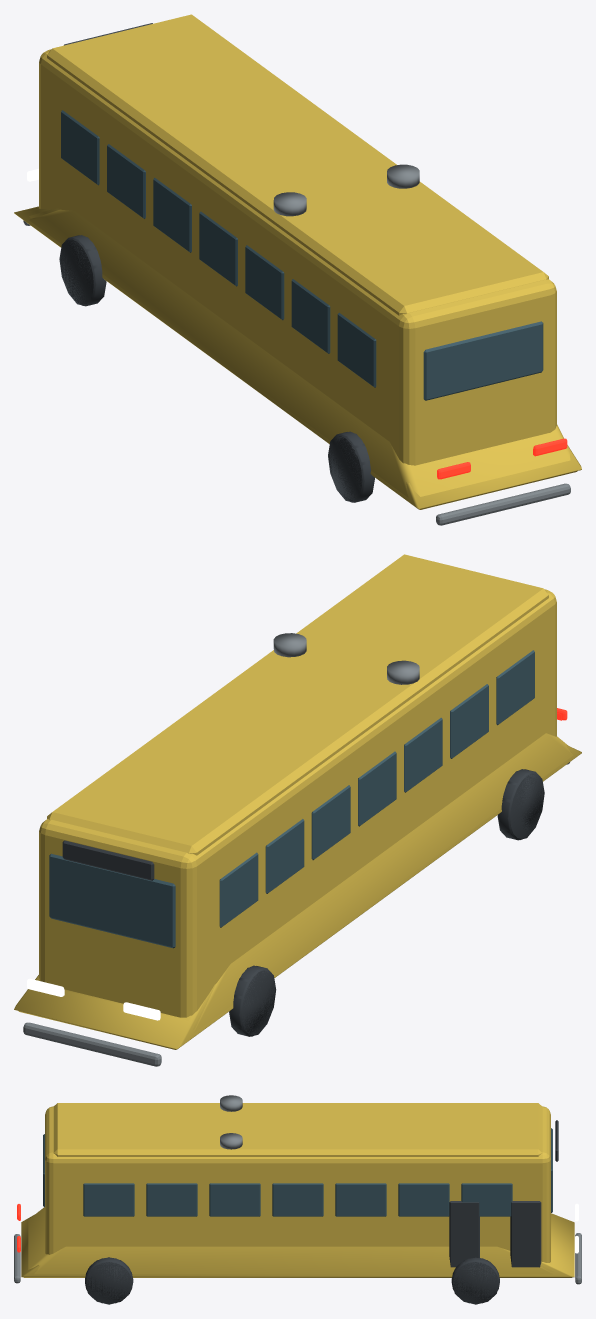
File: city_bus.glb
3 renders of one model, top to bottom at view 1: azimuth 30°, elevation 25°; view 2: azimuth 150°, elevation 25°; view 3: azimuth 270°, elevation 25°, orthographic. The views are drawn at different scales.
Visible parts, largest first — view 1: LOD0_city_bus_PassengerBody, LOD1_city_bus_Upper, LOD0_city_bus_LowerBody, LOD0_city_bus, LOD0_city_bus_RearGlass, LOD2_city_bus_Body, LOD0_city_bus_Wheel_FL, LOD0_city_bus_Wheel_RL, LOD0_city_bus_RearBumper, LOD1_city_bus_Wheel_RL, LOD1_city_bus_Wheel_FL, LOD0_city_bus_RoofVent_-0.87 (+1 smaller); view 2: LOD1_city_bus_Upper, LOD0_city_bus_PassengerBody, LOD0_city_bus_LowerBody, LOD0_city_bus, LOD0_city_bus_FrontGlass, LOD2_city_bus_Body, LOD0_city_bus_Wheel_FL, LOD0_city_bus_Wheel_RL, LOD0_city_bus_FrontBumper, LOD0_city_bus_RouteDisplay, LOD1_city_bus_Wheel_FL, LOD1_city_bus_Wheel_RL (+2 smaller); view 3: LOD0_city_bus_PassengerBody, LOD1_city_bus_Upper, LOD0_city_bus, LOD0_city_bus_LowerBody, LOD2_city_bus_Body, LOD0_city_bus_Wheel_RR, LOD0_city_bus_Wheel_FR, LOD1_city_bus_Wheel_RR, LOD1_city_bus_Wheel_FR, LOD1_city_bus_Body, LOD0_city_bus_RoofVent_+0.87, LOD0_city_bus_RoofVent_-0.87 (+1 smaller).
Part boxes in pixels (x1=…): LOD0_city_bus_PassengerBody: x1=39, y1=49, x2=556, y2=465; LOD1_city_bus_Upper: x1=47, y1=14, x2=548, y2=315; LOD0_city_bus_LowerBody: x1=29, y1=209, x2=570, y2=497; LOD0_city_bus: x1=61, y1=110, x2=376, y2=387; LOD0_city_bus_RearGlass: x1=423, y1=321, x2=543, y2=400; LOD2_city_bus_Body: x1=14, y1=206, x2=581, y2=509; LOD0_city_bus_Wheel_FL: x1=60, y1=235, x2=105, y2=305; LOD0_city_bus_Wheel_RL: x1=329, y1=431, x2=373, y2=502; LOD0_city_bus_RearBumper: x1=436, y1=483, x2=570, y2=525; LOD1_city_bus_Wheel_RL: x1=328, y1=432, x2=374, y2=502; LOD1_city_bus_Wheel_FL: x1=59, y1=235, x2=106, y2=306; LOD0_city_bus_RoofVent_-0.87: x1=273, y1=192, x2=306, y2=216; LOD1_city_bus_Upper: x1=47, y1=554, x2=548, y2=855; LOD0_city_bus_PassengerBody: x1=39, y1=589, x2=556, y2=1017; LOD0_city_bus_LowerBody: x1=194, y1=733, x2=573, y2=1032; LOD0_city_bus: x1=219, y1=650, x2=534, y2=927; LOD0_city_bus_FrontGlass: x1=49, y1=853, x2=175, y2=948; LOD2_city_bus_Body: x1=14, y1=745, x2=581, y2=1049; LOD0_city_bus_Wheel_FL: x1=230, y1=965, x2=275, y2=1036; LOD0_city_bus_Wheel_RL: x1=498, y1=769, x2=543, y2=839; LOD0_city_bus_FrontBumper: x1=23, y1=1022, x2=161, y2=1066; LOD0_city_bus_RouteDisplay: x1=62, y1=840, x2=154, y2=880; LOD1_city_bus_Wheel_FL: x1=229, y1=966, x2=276, y2=1036; LOD1_city_bus_Wheel_RL: x1=497, y1=769, x2=544, y2=840; LOD0_city_bus_PassengerBody: x1=45, y1=1106, x2=550, y2=1262; LOD1_city_bus_Upper: x1=53, y1=1103, x2=542, y2=1156; LOD0_city_bus: x1=83, y1=1183, x2=541, y2=1267; LOD0_city_bus_LowerBody: x1=28, y1=1207, x2=552, y2=1274; LOD2_city_bus_Body: x1=21, y1=1213, x2=574, y2=1277; LOD0_city_bus_Wheel_RR: x1=85, y1=1257, x2=133, y2=1303; LOD0_city_bus_Wheel_FR: x1=451, y1=1257, x2=499, y2=1303; LOD1_city_bus_Wheel_RR: x1=85, y1=1257, x2=133, y2=1304; LOD1_city_bus_Wheel_FR: x1=451, y1=1260, x2=499, y2=1304; LOD1_city_bus_Body: x1=23, y1=1214, x2=572, y2=1277; LOD0_city_bus_RoofVent_+0.87: x1=220, y1=1133, x2=242, y2=1149; LOD0_city_bus_RoofVent_-0.87: x1=220, y1=1095, x2=242, y2=1111.
Size of what is drawn, in the model's own units: 2.78 by 3.33 by 11.04.
